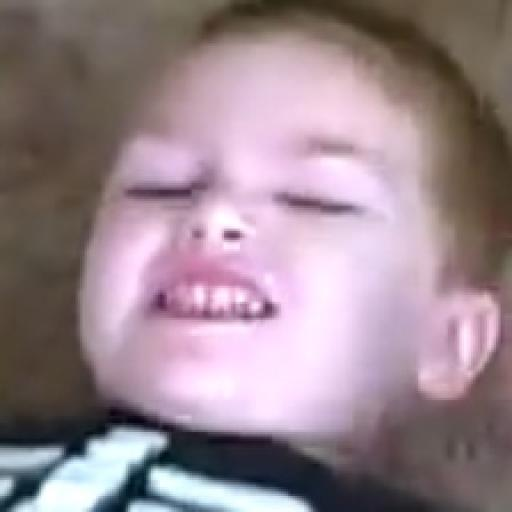Autism: (75, 39, 512, 466)
